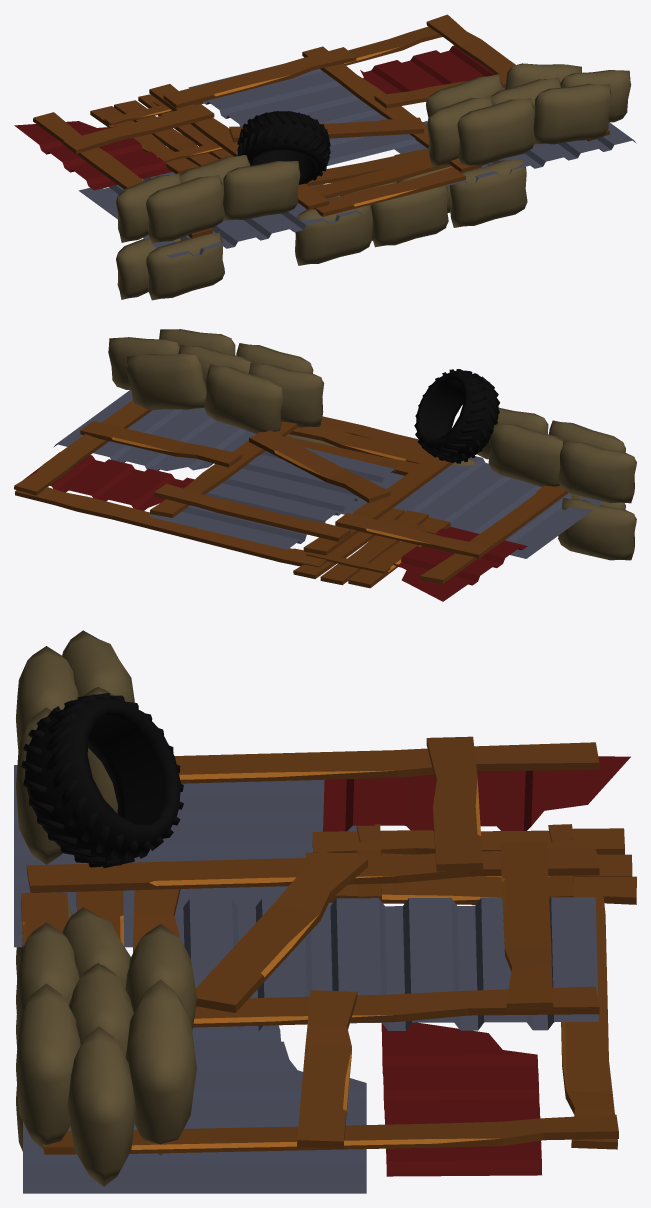
3 views of the same model, one above another, from view 1: azimuth 30°, elevation 25°; view 2: azimuth 150°, elevation 25°; view 3: azimuth 270°, elevation 25° (orthographic). The views are drawn at different scales.
Visible parts, largest first — view 1: Barrier_Trash.009_Cube.144; view 2: Barrier_Trash.009_Cube.144; view 3: Barrier_Trash.009_Cube.144.
Boxes of the visible parts, box(x1,y1,x2,y2) form: Barrier_Trash.009_Cube.144: box(14, 14, 636, 300); Barrier_Trash.009_Cube.144: box(14, 329, 636, 601); Barrier_Trash.009_Cube.144: box(14, 630, 636, 1193).
Size of the model in its own units: 915 by 267 by 512.
